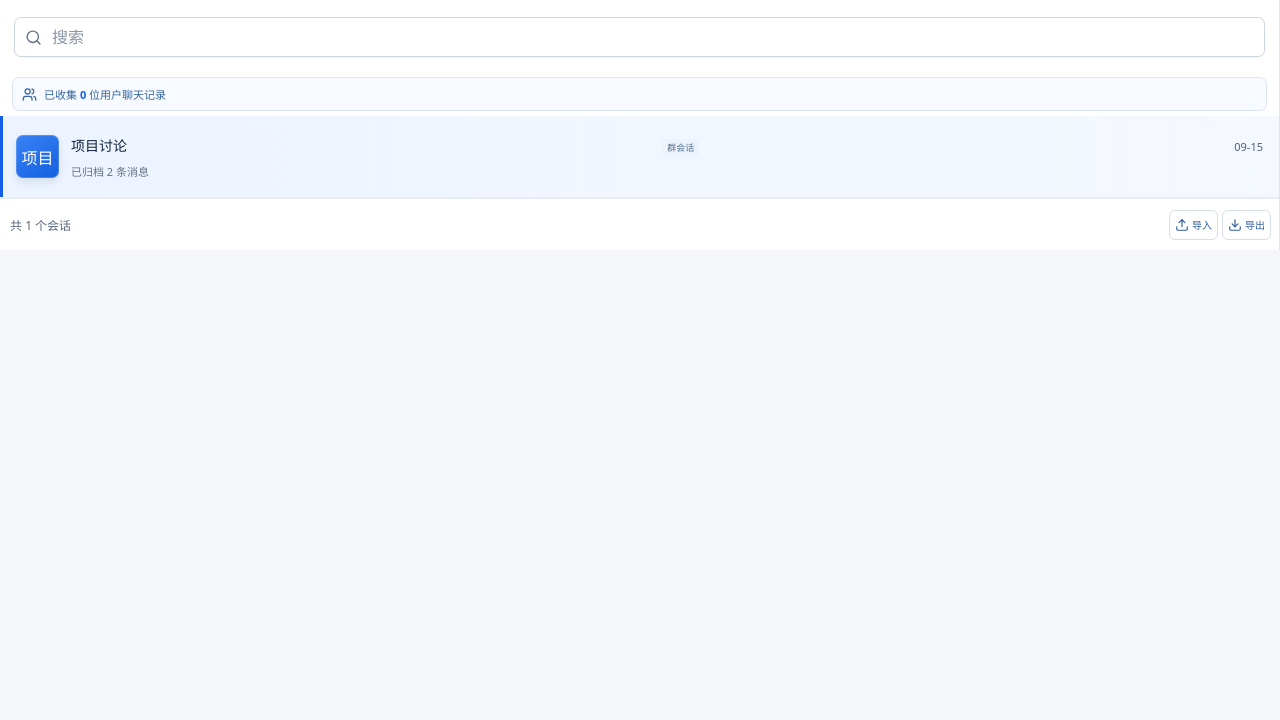
Scenario: global message search › loads more global search results beyond the first page
The width and height of the screenshot is (1280, 720).
Focus the field named "打开全局搜索" at (652, 37), box [50,25,1254,49]
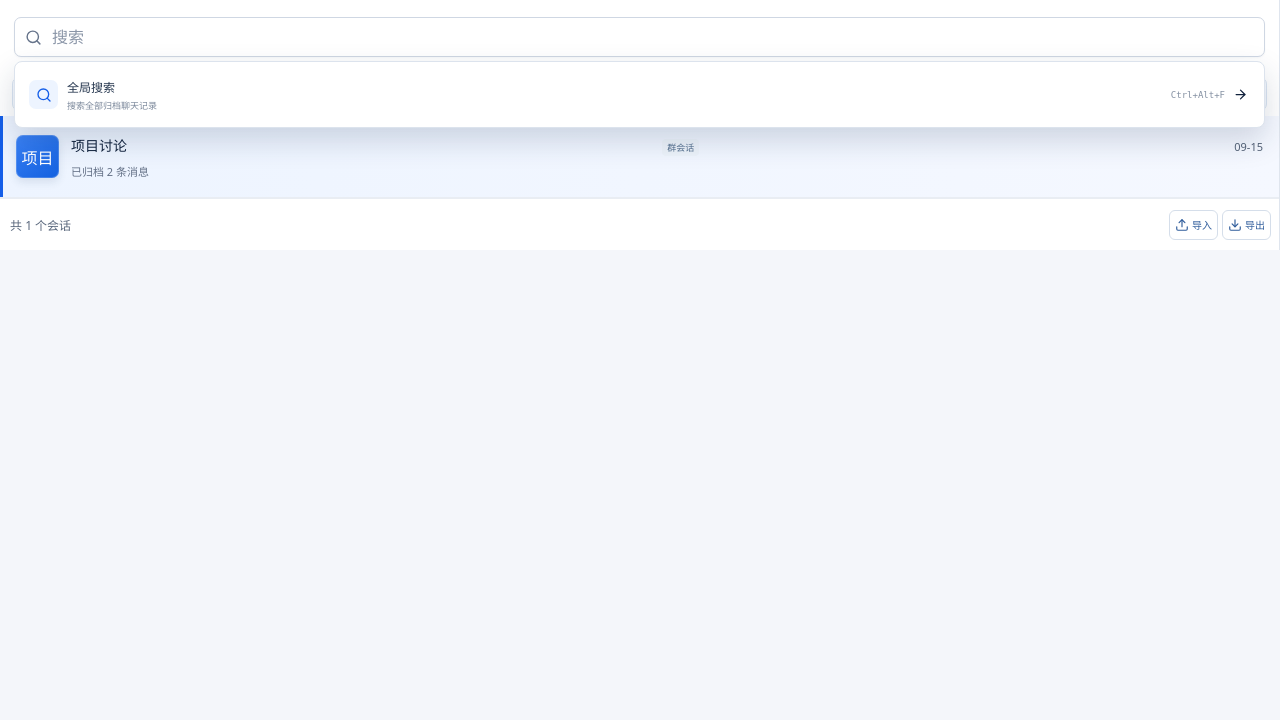
Click the button "全局搜索 搜索全部归档聊天记录 Ctrl+Alt+F" at (91, 87), box [21,68,1258,121]
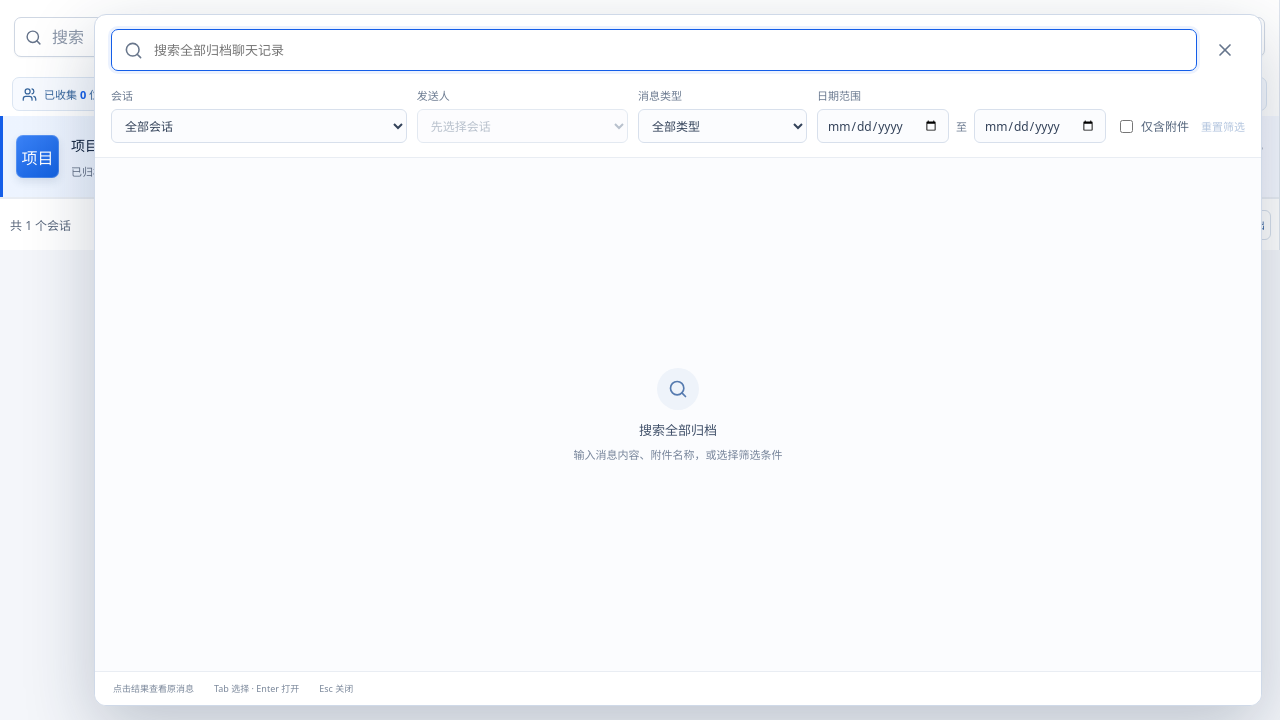
Type "搜索" into the field named "全局搜索聊天记录" at (668, 50), box [152,40,1184,60]
(page scrolled)
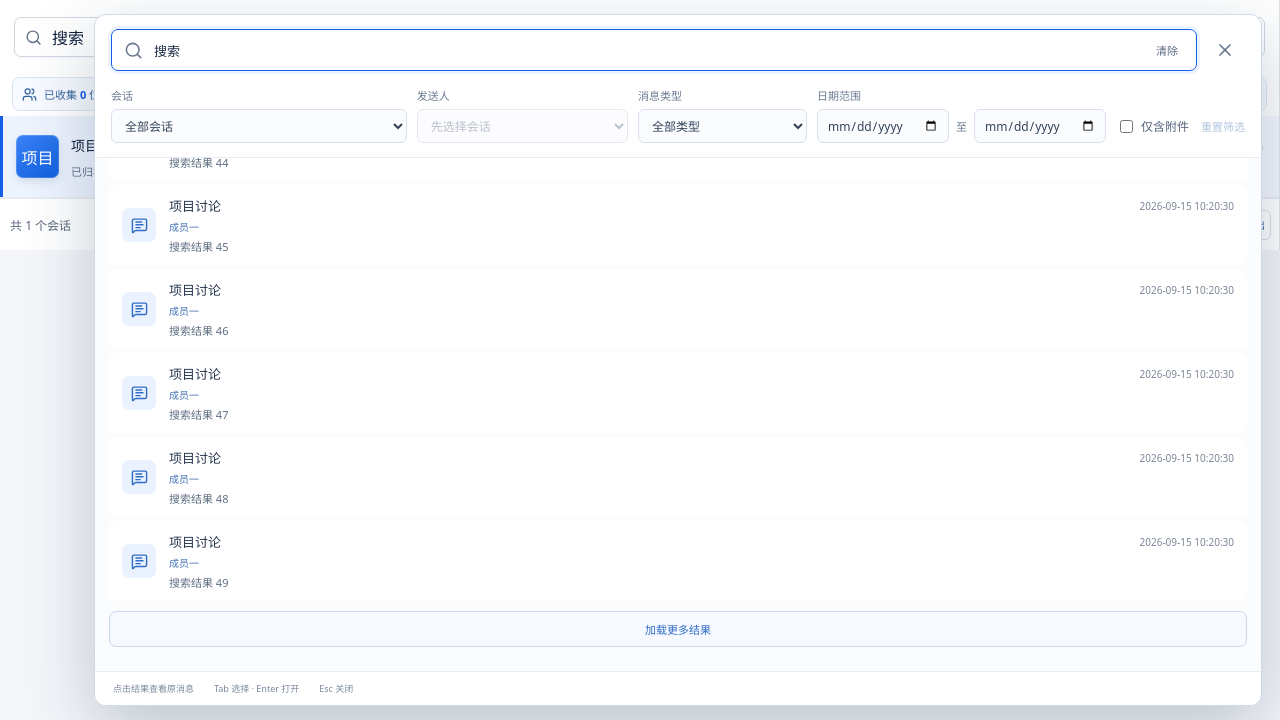
Click the button "加载更多结果" at (678, 629), box [109,611,1247,647]
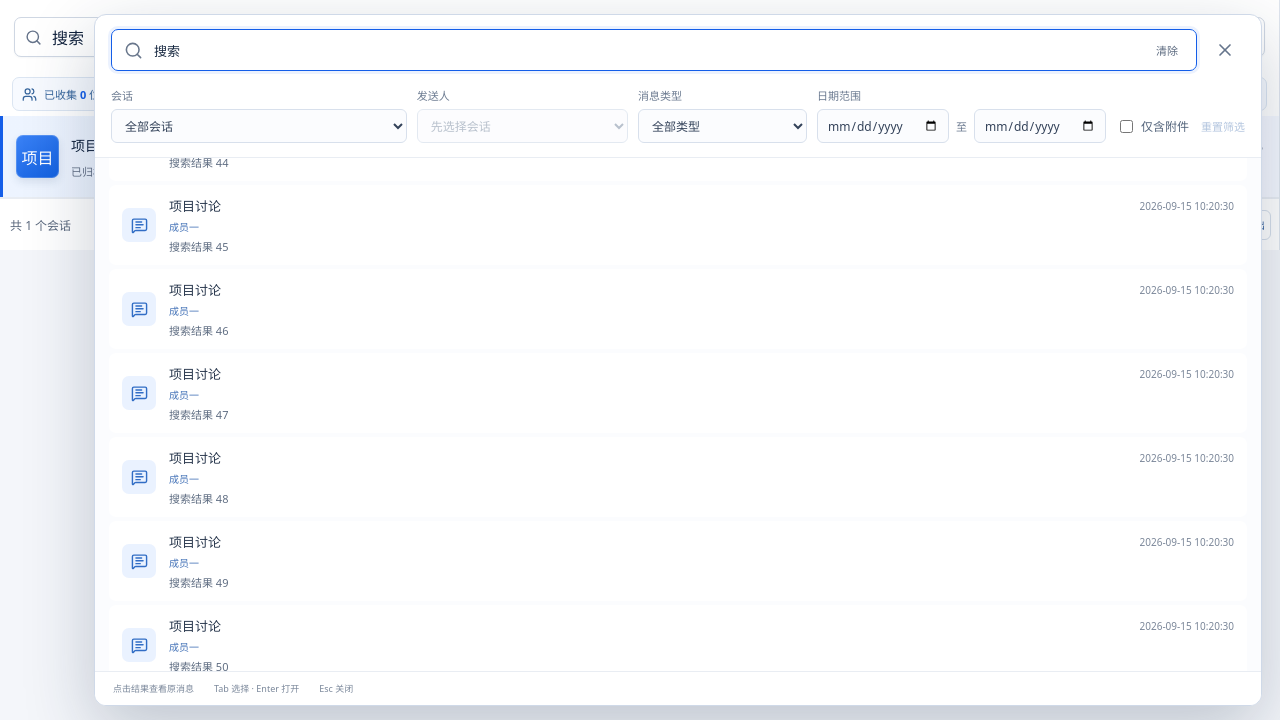
Check: the text "搜索结果 50" is shown, box [169,659,228,671]
Replace the text in the field named "全局搜索聊天记录" with "更换关键词" at (646, 50), box [152,40,1141,60]
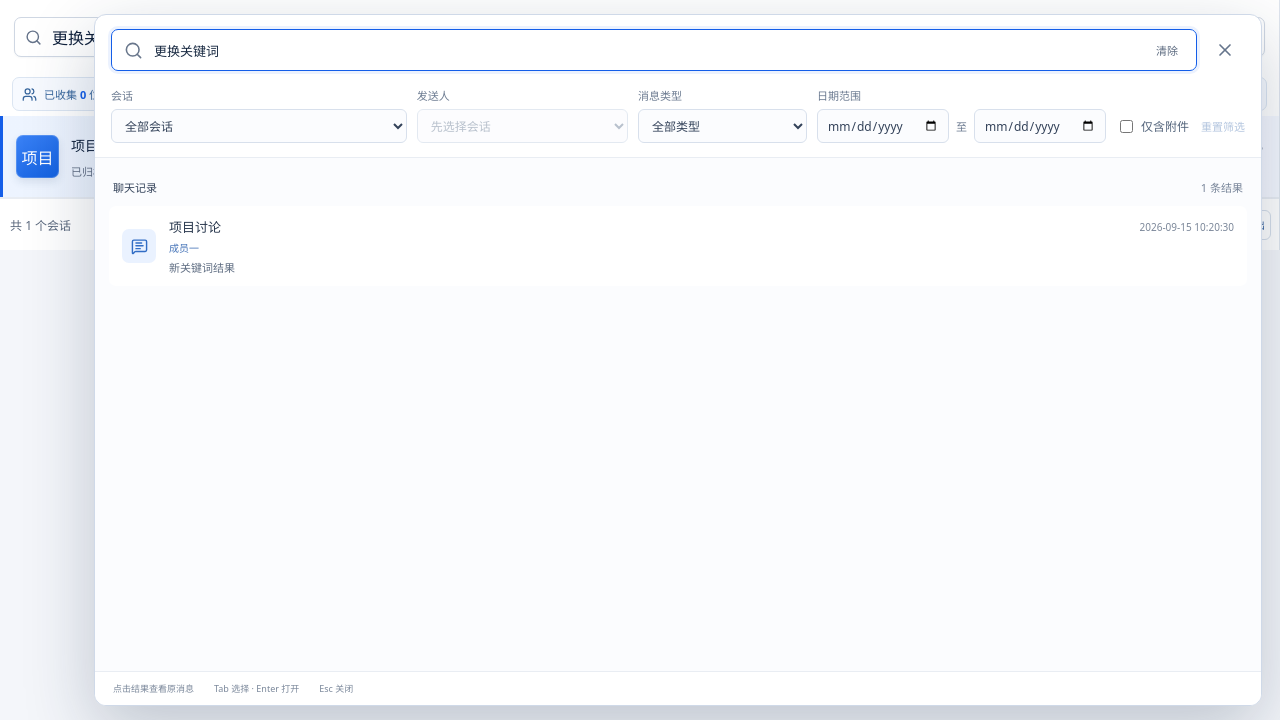
Check: the text "新关键词结果" is shown, box [169,260,235,275]
Check: the button "搜索结果 50" is gone
